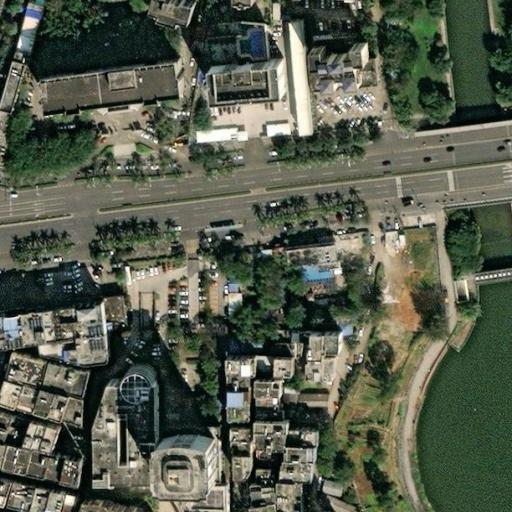building: (100, 369, 165, 484), (36, 68, 174, 114), (173, 454, 235, 512), (289, 26, 311, 138), (309, 46, 367, 88), (204, 64, 276, 97), (83, 307, 117, 371), (48, 392, 97, 430), (280, 237, 337, 267), (51, 367, 98, 401), (18, 316, 58, 354), (245, 463, 276, 512), (53, 311, 88, 350), (1, 59, 25, 115), (238, 24, 269, 66), (9, 384, 47, 418), (15, 360, 53, 392), (34, 429, 66, 460), (12, 17, 34, 62), (264, 429, 298, 458), (309, 491, 350, 512), (33, 455, 59, 488), (186, 129, 236, 143), (323, 340, 349, 366), (287, 467, 320, 486), (19, 489, 46, 512), (306, 365, 338, 384), (259, 402, 284, 426), (286, 486, 309, 512), (53, 460, 71, 490), (234, 434, 256, 458), (237, 364, 266, 382), (217, 293, 234, 322), (296, 265, 326, 281), (262, 386, 290, 403), (304, 296, 342, 308), (71, 466, 90, 490), (300, 279, 330, 294), (234, 411, 259, 429), (254, 123, 282, 139), (297, 433, 323, 450), (216, 321, 230, 352), (253, 301, 267, 331), (92, 272, 111, 294), (58, 499, 90, 512), (297, 453, 324, 468), (289, 394, 320, 407), (231, 382, 257, 397), (40, 495, 62, 512), (130, 294, 140, 328), (282, 365, 301, 382), (229, 342, 257, 353), (274, 317, 297, 329), (237, 397, 254, 412), (291, 335, 312, 346), (274, 347, 293, 359), (270, 332, 287, 345), (314, 318, 332, 330), (296, 320, 314, 330), (296, 292, 305, 311), (253, 247, 265, 261), (266, 314, 275, 329), (217, 282, 228, 294)
